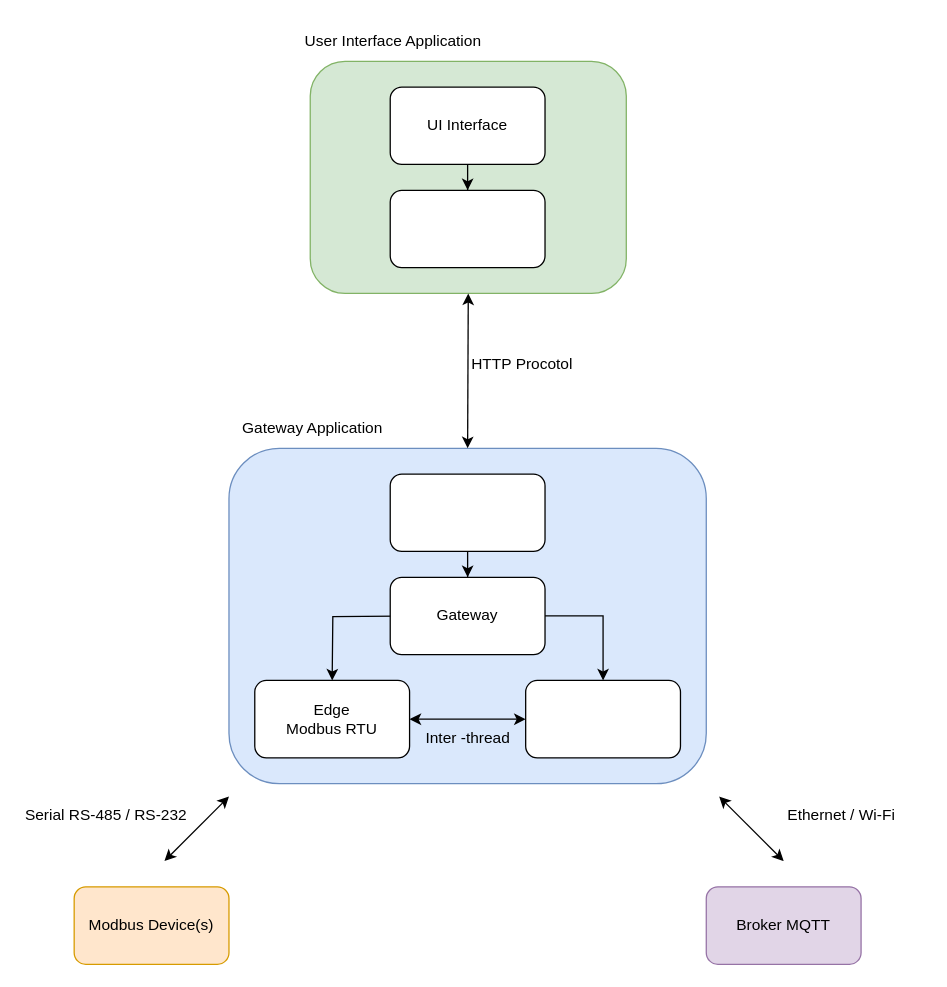
Some shapes in this 947 by 987 pixel diagram are drawn without their labels. The shapes that lost their labels are listed below. From the top down, each one's centre as x and y in pixels, then its label:
(467,228): Http Client
(467,512): Control Http Server
(602,718): Cloud MQTT
